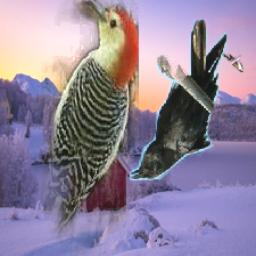Crow: (130, 17, 228, 180)
Cuckoo: (221, 54, 243, 73)
Woodpecker: (9, 0, 140, 256)
